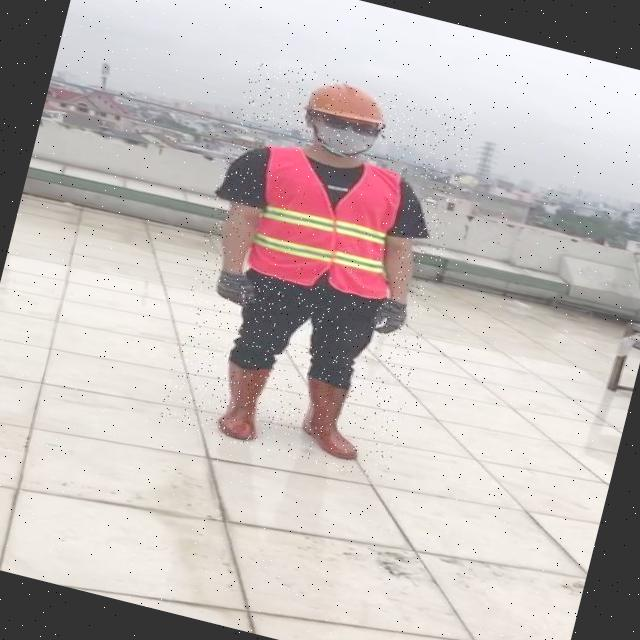boots: (286, 374, 374, 462), (208, 357, 277, 442)
helmet: (298, 70, 396, 132)
vest: (242, 138, 416, 302)
